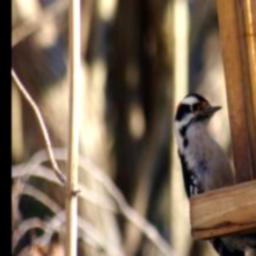Woodpecker: (174, 92, 256, 256)
